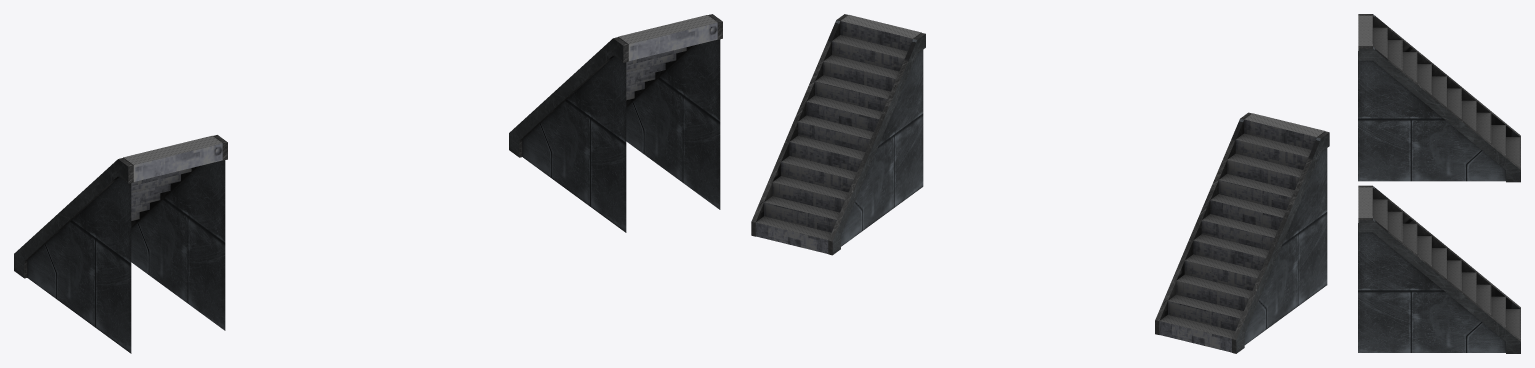
The model's file is BridgeStairs.fbx.
3 renders of one model, left to right at view 1: azimuth 30°, elevation 25°; view 2: azimuth 150°, elevation 25°; view 3: azimuth 270°, elevation 25°, orthographic. The views are drawn at different scales.
Visible parts, largest first — view 1: Bars (×2), BridgeStairsLeft, BridgeStairsRight; view 2: Bars (×2), BridgeStairsRight, BridgeStairsLeft; view 3: Bars (×2), BridgeStairsLeft, BridgeStairsRight.
Boxes of the visible parts, <box> form: Bars (×2): <box>14,14,722,353</box>; BridgeStairsLeft: <box>618,15,717,104</box>; BridgeStairsRight: <box>123,135,222,220</box>; Bars (×2): <box>751,14,1329,353</box>; BridgeStairsRight: <box>1159,113,1324,352</box>; BridgeStairsLeft: <box>755,15,921,253</box>; Bars (×2): <box>1358,14,1520,353</box>; BridgeStairsLeft: <box>1358,187,1520,339</box>; BridgeStairsRight: <box>1358,15,1520,167</box>.
Bounding box in the file's own units: 20 × 6.05 × 6.67.
